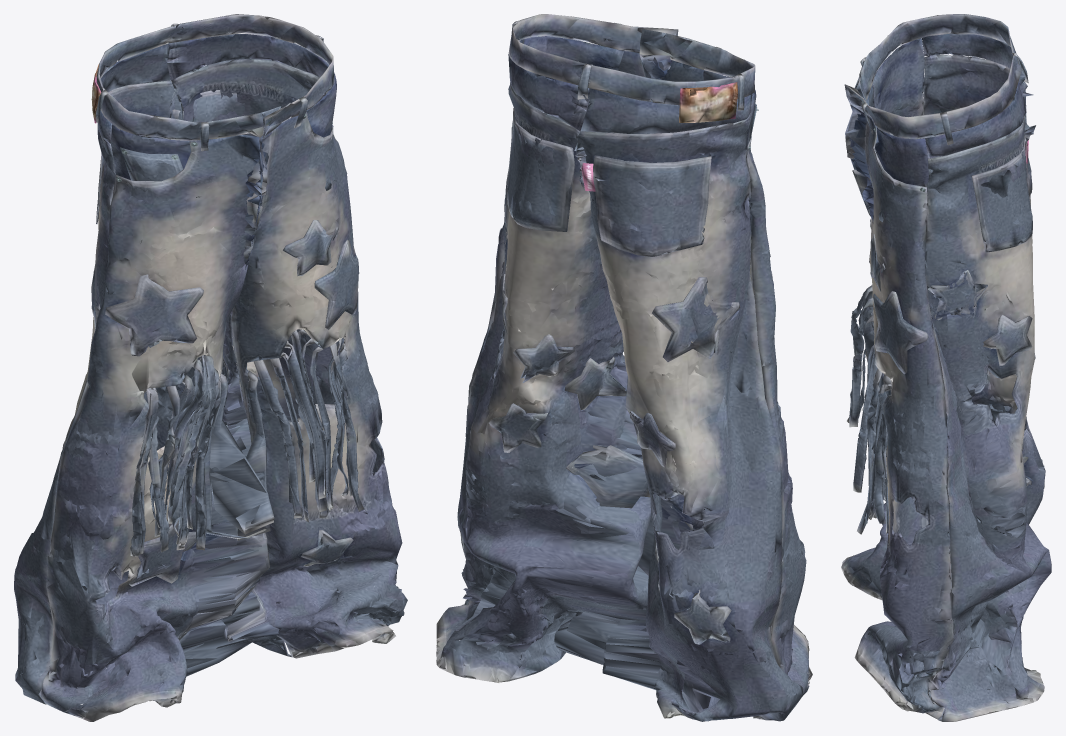
Rendered from baggy_jeans.glb.
The picture shows the model from 3 angles, left to right: view 1: azimuth 30°, elevation 25°; view 2: azimuth 150°, elevation 25°; view 3: azimuth 270°, elevation 25°; orthographic projection. The views are drawn at different scales.
Parts seen in each view (by area): view 1: baggy_jeans; view 2: baggy_jeans; view 3: baggy_jeans.
Part boxes in pixels (left/top/right/bottom): baggy_jeans: left=14, top=14, right=407, bottom=721; baggy_jeans: left=436, top=14, right=812, bottom=721; baggy_jeans: left=841, top=14, right=1051, bottom=721.
Bounding box in the file's own units: 0.6418 × 1.06 × 0.342.
1 material, 1 textured.
